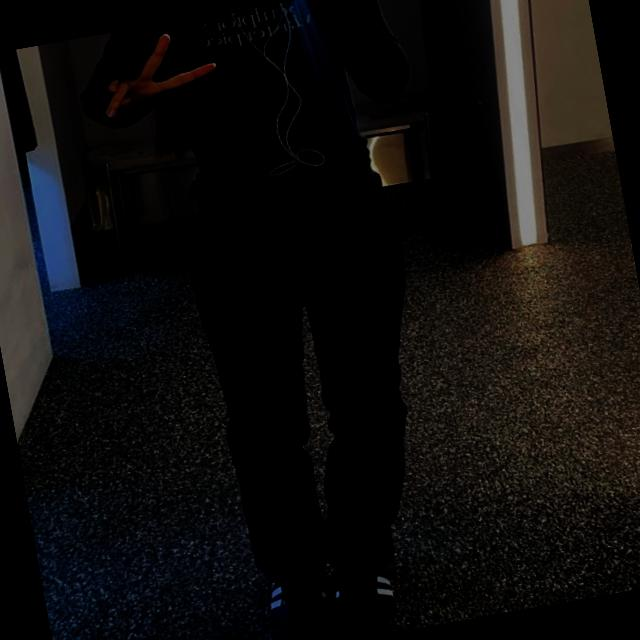longsleeve: (69, 0, 425, 219)
slacks: (172, 155, 456, 599)
